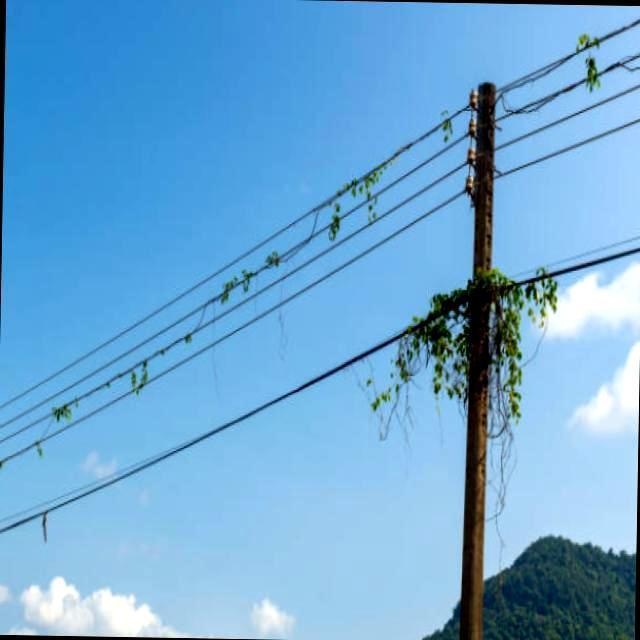critical vegetation: (401, 63, 544, 521), (390, 237, 555, 432)
